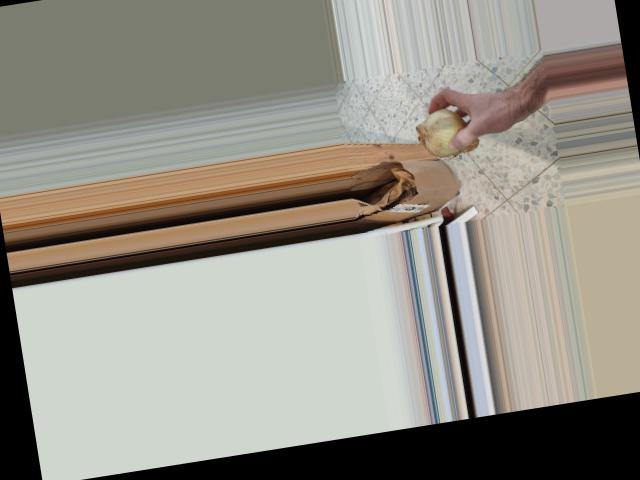onion: (411, 100, 481, 164)
